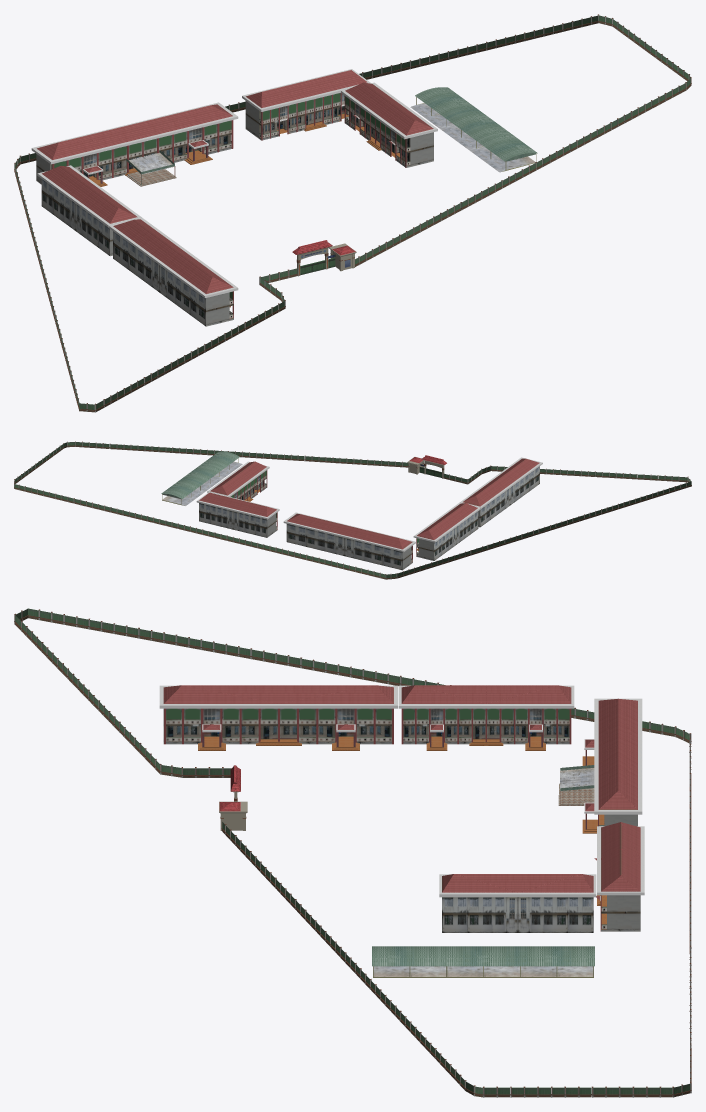
Rendered from Truong Tieu Hoc Tan Phu B.glb.
3 views of the same model, one above another, from view 1: azimuth 30°, elevation 25°; view 2: azimuth 150°, elevation 25°; view 3: azimuth 270°, elevation 25° (orthographic). The views are drawn at different scales.
Parts seen in each view (by area): view 1: 3-2, TruongTieuHocTanPhuB.Cong, 3-2.003, 3-2.002, 1-2, 4.001; view 2: TruongTieuHocTanPhuB.Cong, 3-2, 3-2.002, 3-2.003, 1-2; view 3: 3-2, TruongTieuHocTanPhuB.Cong, 3-2.003, 1-2, 3-2.002, 4.001.
Boxes of the visible parts, x1,y1,x2,y2 form: 3-2: (37,165,238,326); TruongTieuHocTanPhuB.Cong: (14,14,691,412); 3-2.003: (242,69,437,167); 3-2.002: (31,102,238,186); 1-2: (410,87,537,172); 4.001: (126,150,176,186); TruongTieuHocTanPhuB.Cong: (14,441,691,579); 3-2: (413,457,542,560); 3-2.002: (283,512,415,570); 3-2.003: (196,461,279,537); 1-2: (161,451,242,505); 3-2: (159,685,574,750); TruongTieuHocTanPhuB.Cong: (14,608,691,1097); 3-2.003: (439,822,644,932); 1-2: (372,946,594,977); 3-2.002: (582,698,642,833); 4.001: (558,765,594,805).
Size of the model in its own units: 231 by 11.35 by 138.
7 materials, 7 textured.
